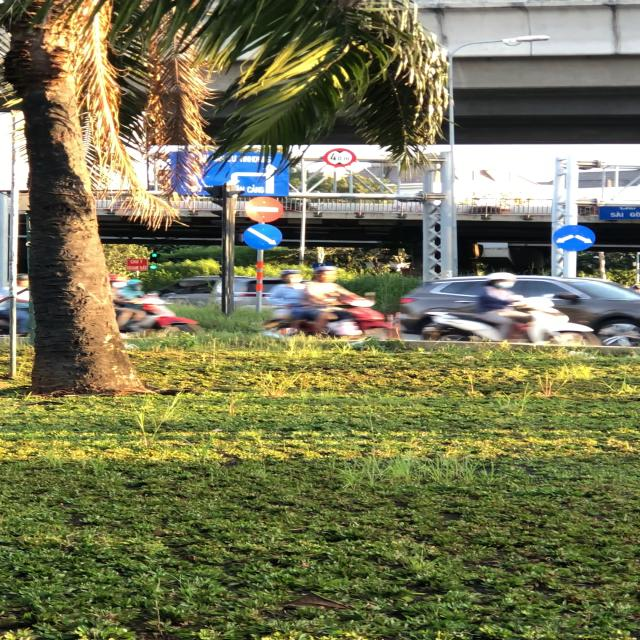Bien bao cam di nguoc chieu: (239, 193, 284, 221)
Bien bao han che chieu cao: (322, 146, 359, 169)
Bien bao huong phai di vong chuong ngai vat: (548, 224, 598, 254), (238, 221, 286, 250)
